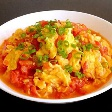fanqiechaojidan: (1, 20, 112, 99)
